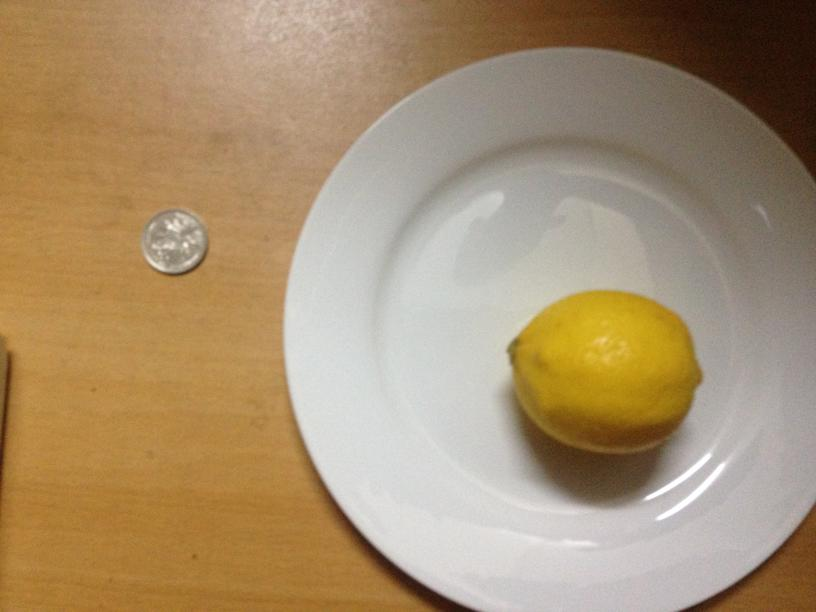coin: (142, 207, 206, 275)
lemon: (513, 292, 694, 453)
